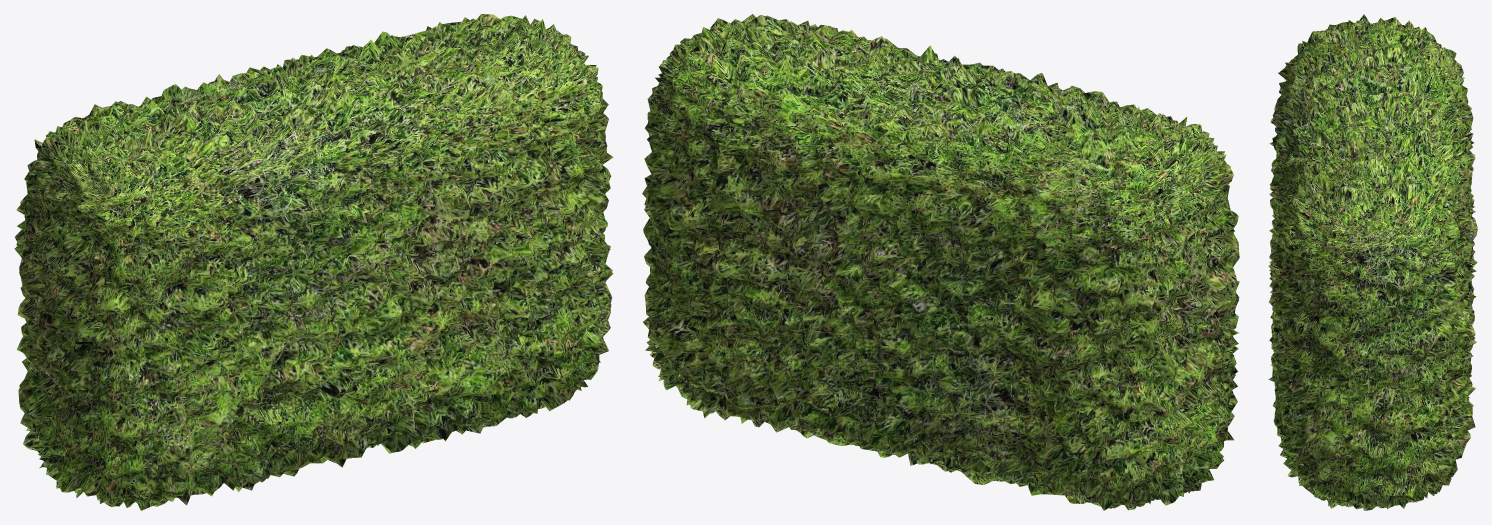
Rendered from hedge_generic.gltf.
3 views of the same model, side by side, from view 1: azimuth 30°, elevation 25°; view 2: azimuth 150°, elevation 25°; view 3: azimuth 270°, elevation 25° (orthographic). The views are drawn at different scales.
Visible parts, largest first — view 1: Object_2; view 2: Object_2; view 3: Object_2.
Boxes of the visible parts, box(x1,y1,x2,y2) form: Object_2: box(14, 14, 613, 510); Object_2: box(642, 14, 1239, 510); Object_2: box(1268, 14, 1477, 510).
Size of the model in its own units: 155 by 99.99 by 59.38.
1 material, 1 textured.
